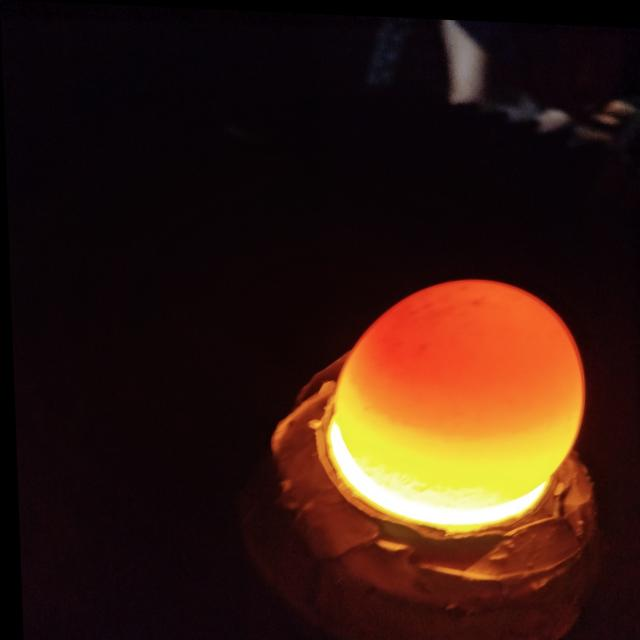Gema Quebrada: (345, 275, 582, 437)
